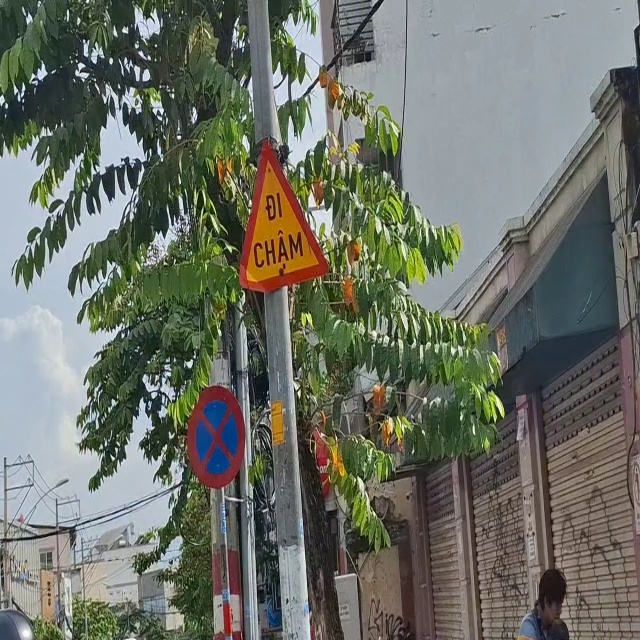cam dung cam do: (167, 374, 258, 495)
di cham: (229, 131, 337, 302)
